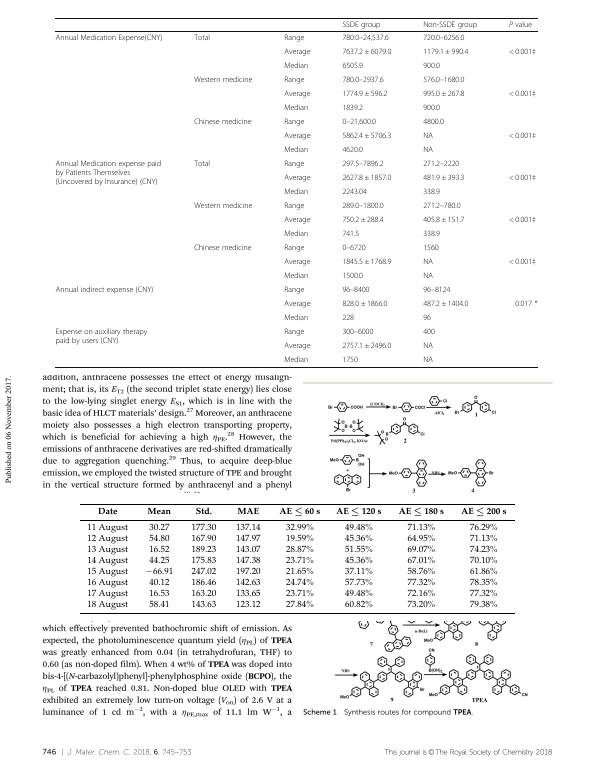borderless: (54, 16, 538, 367), (79, 502, 515, 613)
cell: (55, 159, 162, 187), (55, 327, 148, 346), (55, 33, 163, 43), (55, 285, 154, 295), (193, 75, 253, 85), (193, 201, 253, 211), (193, 117, 252, 127), (193, 243, 252, 253), (341, 47, 392, 57), (341, 131, 392, 141), (341, 173, 392, 183), (341, 257, 392, 267), (341, 341, 392, 351), (422, 20, 478, 29), (341, 33, 390, 43), (422, 47, 469, 57), (341, 89, 388, 99), (341, 299, 388, 309), (422, 299, 469, 309), (335, 507, 382, 517), (397, 507, 444, 517), (460, 507, 507, 517), (86, 523, 128, 534), (86, 534, 128, 545), (86, 545, 128, 556), (86, 556, 128, 567), (86, 567, 128, 578), (86, 578, 128, 589), (86, 589, 128, 600), (86, 600, 128, 611), (341, 215, 385, 225), (422, 33, 465, 43), (341, 75, 384, 85), (422, 75, 465, 85), (422, 89, 465, 99), (341, 159, 384, 169), (422, 173, 465, 183), (341, 201, 384, 211), (422, 215, 465, 225), (278, 507, 321, 517), (422, 201, 461, 211), (422, 159, 460, 169), (341, 20, 381, 29), (341, 117, 377, 127), (341, 327, 374, 337), (343, 523, 373, 534), (406, 523, 436, 534), (468, 523, 498, 534), (343, 534, 373, 545), (406, 534, 436, 545), (468, 534, 498, 545), (343, 545, 373, 556), (406, 545, 436, 556), (468, 545, 498, 556), (343, 556, 373, 567), (406, 556, 436, 567), (468, 556, 498, 567), (144, 567, 174, 578), (343, 567, 373, 578), (406, 567, 436, 578), (468, 567, 498, 578), (343, 578, 373, 589), (406, 578, 436, 589), (468, 578, 498, 589), (343, 589, 373, 600), (406, 589, 436, 600), (468, 589, 498, 600), (343, 600, 373, 611), (406, 600, 436, 611), (468, 600, 498, 611), (285, 523, 314, 534), (285, 534, 314, 545), (285, 545, 314, 556), (285, 556, 314, 567), (285, 567, 314, 578), (285, 578, 314, 589), (285, 589, 314, 600), (285, 600, 314, 611), (190, 523, 217, 534), (234, 523, 261, 534), (190, 534, 217, 545), (234, 534, 261, 545), (190, 545, 217, 556), (234, 545, 261, 556), (190, 556, 217, 567), (234, 556, 261, 567), (190, 567, 217, 578), (234, 567, 261, 578), (190, 578, 217, 589), (234, 578, 261, 589), (190, 589, 217, 600), (234, 589, 261, 600), (190, 600, 217, 611), (234, 600, 261, 611), (508, 47, 537, 57), (508, 89, 537, 99), (508, 131, 537, 141), (508, 173, 537, 183), (508, 215, 537, 225), (508, 257, 537, 267), (341, 285, 370, 295), (422, 285, 451, 295), (283, 47, 311, 57), (283, 89, 311, 99), (283, 131, 311, 141), (283, 173, 311, 183), (283, 215, 311, 225), (283, 257, 311, 267), (283, 299, 311, 309), (283, 341, 311, 351), (341, 187, 368, 197), (283, 61, 309, 71), (283, 103, 309, 113), (283, 145, 309, 155), (283, 187, 309, 197), (283, 229, 309, 239), (341, 243, 367, 253), (283, 271, 309, 281), (283, 313, 309, 323), (283, 355, 309, 365), (148, 523, 170, 534), (148, 534, 170, 545), (148, 545, 170, 556), (148, 556, 170, 567), (148, 578, 170, 589), (148, 589, 170, 600), (148, 600, 170, 611), (514, 299, 538, 309), (341, 61, 364, 71), (341, 103, 364, 113), (422, 117, 445, 127), (341, 145, 364, 155), (341, 271, 364, 281), (508, 20, 533, 29), (283, 33, 305, 43), (283, 75, 305, 85), (283, 117, 305, 127), (283, 159, 305, 169), (283, 201, 305, 211), (283, 243, 305, 253), (283, 285, 305, 295), (283, 327, 305, 337), (146, 507, 172, 515), (422, 61, 441, 71), (422, 103, 441, 113), (422, 187, 441, 197), (341, 229, 360, 239), (422, 229, 441, 239), (236, 507, 259, 515), (193, 33, 211, 43), (193, 159, 211, 169), (422, 243, 440, 253), (341, 355, 359, 365), (96, 507, 118, 515), (194, 507, 212, 515), (341, 313, 355, 323), (422, 327, 436, 337), (422, 131, 434, 141), (422, 145, 434, 155), (422, 257, 434, 267), (422, 271, 434, 281), (422, 341, 434, 351), (422, 355, 434, 365), (422, 313, 432, 323)
